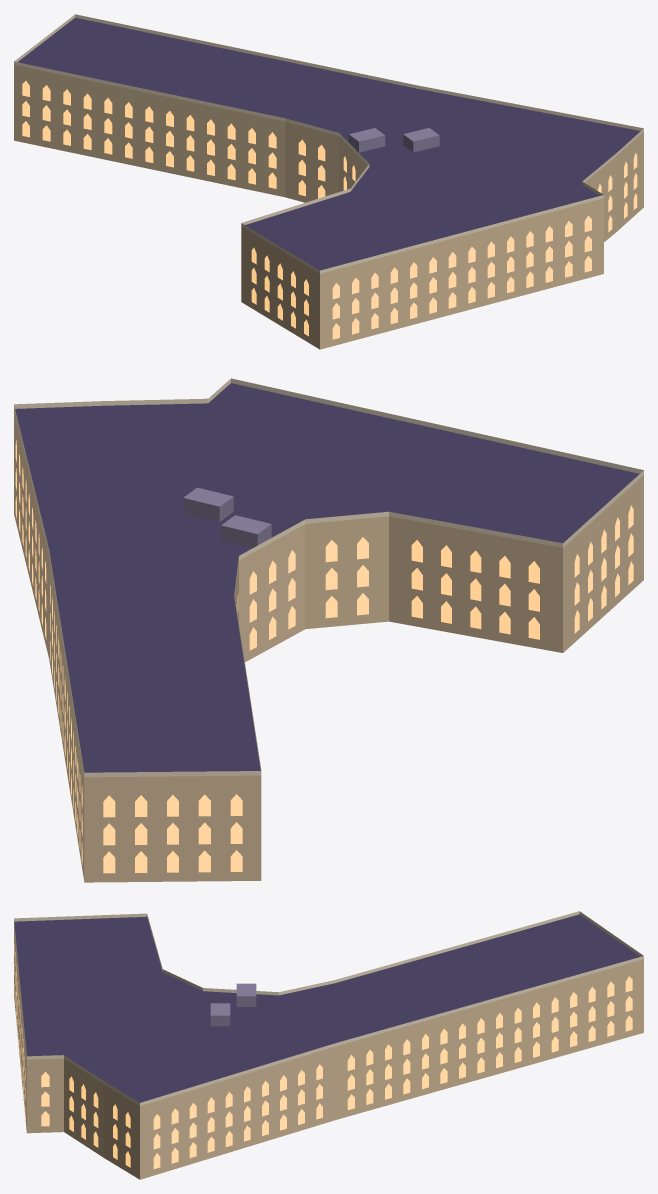
The model's file is b-080-schmeichel-building.glb.
The picture shows the model from 3 angles, top to bottom: view 1: azimuth 30°, elevation 25°; view 2: azimuth 150°, elevation 25°; view 3: azimuth 270°, elevation 25°; orthographic projection. The views are drawn at different scales.
Parts seen in each view (by area): view 1: campus/b-080-schmeichel-building-0; view 2: campus/b-080-schmeichel-building-0; view 3: campus/b-080-schmeichel-building-0.
Boxes of the visible parts, box(x1,y1,x2,y2) form: campus/b-080-schmeichel-building-0: box(14, 14, 643, 349); campus/b-080-schmeichel-building-0: box(14, 378, 643, 882); campus/b-080-schmeichel-building-0: box(14, 911, 643, 1179).
Size of the model in its own units: 69.21 by 14.2 by 96.07.
